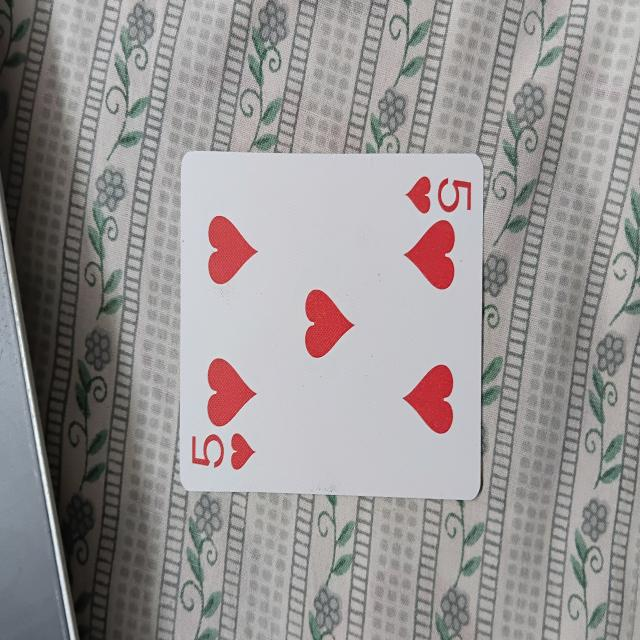5H: (181, 152, 478, 495)
